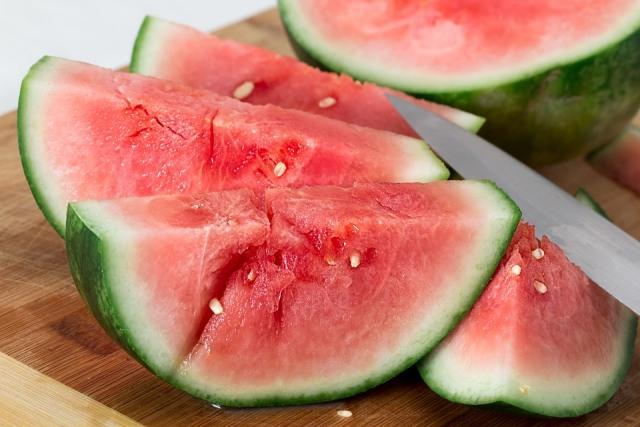Semangka: (40, 179, 491, 370), (64, 111, 424, 197), (108, 20, 468, 81)
